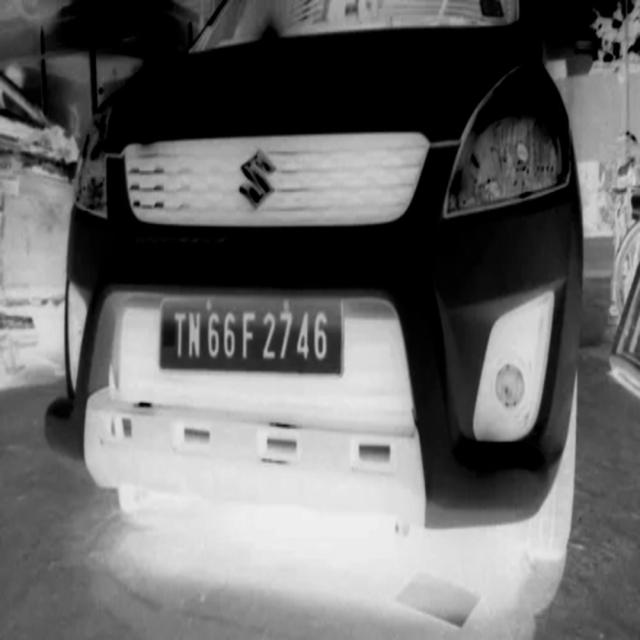2: (262, 309, 276, 367)
4: (296, 306, 312, 363)
6: (314, 310, 329, 366), (222, 307, 237, 362), (207, 310, 220, 361)
7: (278, 304, 294, 366)
F: (242, 307, 257, 365)
IND: (161, 307, 178, 360)
Indian_registered: (160, 295, 342, 373)
N: (187, 308, 202, 362)
T: (173, 308, 188, 364)
